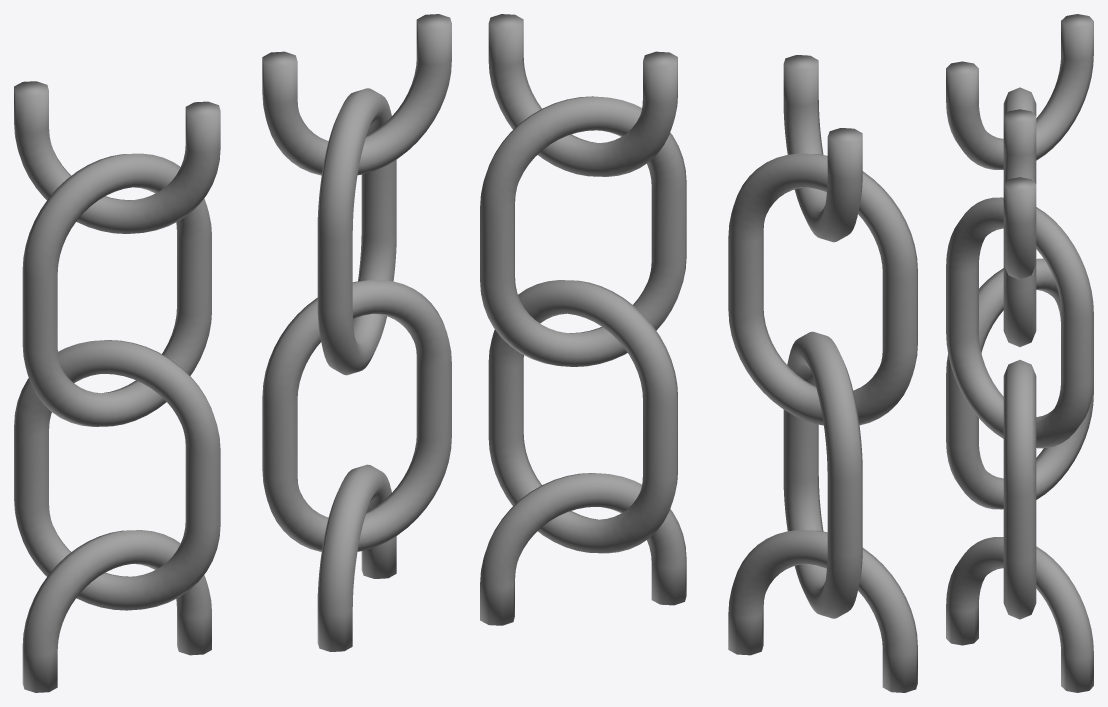
Rendered from chains.glb.
3 views of the same model, side by side, from view 1: azimuth 30°, elevation 25°; view 2: azimuth 150°, elevation 25°; view 3: azimuth 270°, elevation 25° (orthographic). The views are drawn at different scales.
Visible parts, largest first — view 1: Torus.011; view 2: Torus.011; view 3: Torus.011.
Part boxes in pixels (x1,y1,x2,y2): Torus.011: (14, 14, 451, 692); Torus.011: (480, 14, 917, 692); Torus.011: (946, 14, 1093, 692).
Size of the model in its own units: 1.78 by 2.26 by 0.5922.
1 material, 1 textured.
